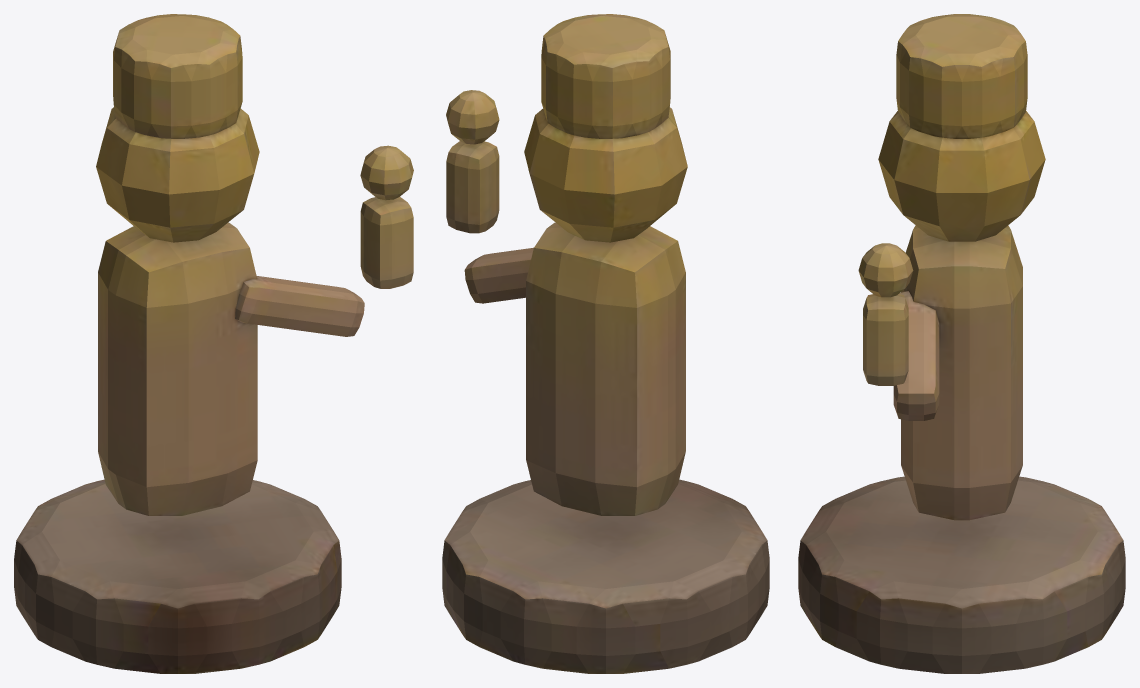
File: find_brass_figurine.glb
3 renders of one model, left to right at view 1: azimuth 30°, elevation 25°; view 2: azimuth 150°, elevation 25°; view 3: azimuth 270°, elevation 25°, orthographic.
Visible parts, largest first — view 1: BrassFigurine_Mesh; view 2: BrassFigurine_Mesh; view 3: BrassFigurine_Mesh.
Boxes of the visible parts, bbox=[...] form: BrassFigurine_Mesh: bbox=[14, 14, 413, 673]; BrassFigurine_Mesh: bbox=[442, 14, 769, 673]; BrassFigurine_Mesh: bbox=[798, 14, 1125, 673].
Bounding box in the file's own units: 0.2548 × 0.42 × 0.2153.
Materials: 1 (1 with a texture image).
